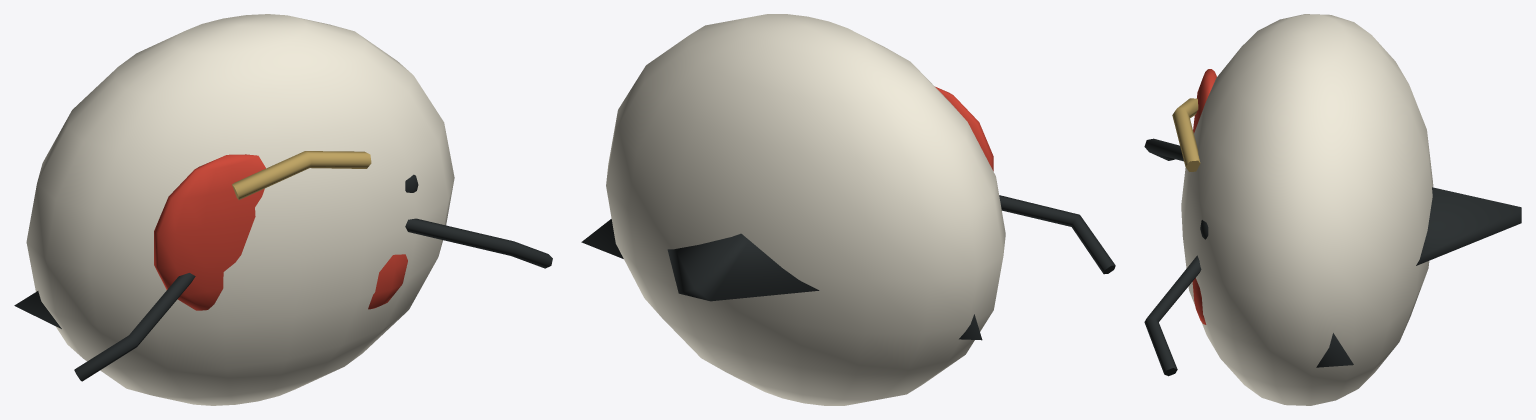
The picture shows the model from 3 angles, left to right: view 1: azimuth 30°, elevation 25°; view 2: azimuth 150°, elevation 25°; view 3: azimuth 270°, elevation 25°; orthographic projection. The views are drawn at different scales.
Parts seen in each view (by area): view 1: 64 broad readable body, large cinnabar patch, old gold brow, two long whiskers R, two long whiskers, small cinnabar patch, left brush fin; view 2: 64 broad readable body, brush fan tail, two long whiskers, large cinnabar patch, right brush fin; view 3: 64 broad readable body, brush fan tail, two long whiskers R, old gold brow, right brush fin, two long whiskers, large cinnabar patch.
Boxes of the visible parts, x1,y1,x2,y2 form: 64 broad readable body: (26,14,454,405); large cinnabar patch: (154,154,265,310); old gold brow: (232,151,371,199); two long whiskers R: (405,218,552,268); two long whiskers: (74,273,195,381); small cinnabar patch: (368,254,407,309); left brush fin: (14,291,61,328); 64 broad readable body: (606,14,1005,405); brush fan tail: (667,233,819,301); two long whiskers: (999,195,1115,274); large cinnabar patch: (935,86,993,171); right brush fin: (581,219,623,258); 64 broad readable body: (1181,14,1433,405); brush fan tail: (1416,187,1521,265); two long whiskers R: (1144,255,1201,376); old gold brow: (1172,98,1200,171); right brush fin: (1316,333,1353,367); two long whiskers: (1144,138,1183,161); large cinnabar patch: (1193,69,1216,132).
Bounding box in the file's own units: 1.61 × 1.19 × 1.16.
